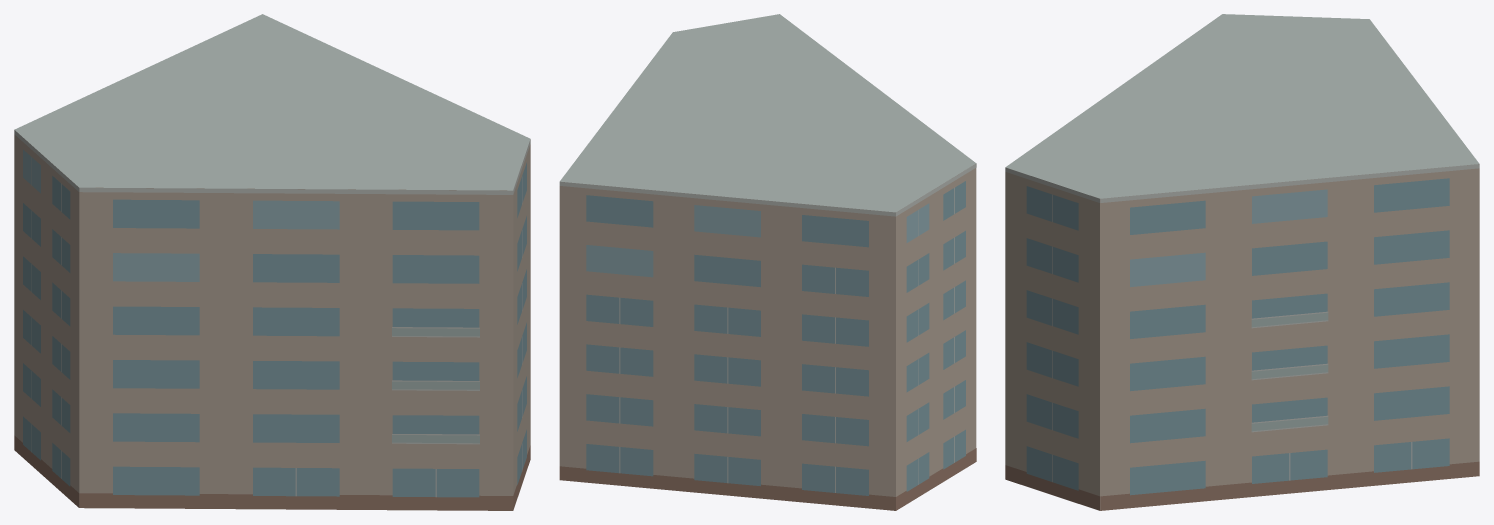
The model's file is survey-upis-33012017.glb.
3 renders of one model, left to right at view 1: azimuth 30°, elevation 25°; view 2: azimuth 150°, elevation 25°; view 3: azimuth 270°, elevation 25°, orthographic. The views are drawn at different scales.
Parts seen in each view (by area): view 1: survey-upis-33012017.tmp; view 2: survey-upis-33012017.tmp; view 3: survey-upis-33012017.tmp.
Part boxes in pixels (x1,y1,x2,y2): survey-upis-33012017.tmp: (14, 14, 530, 510); survey-upis-33012017.tmp: (559, 14, 976, 510); survey-upis-33012017.tmp: (1005, 14, 1479, 510).
Bounding box in the file's own units: 22.1 × 17.4 × 23.98.
